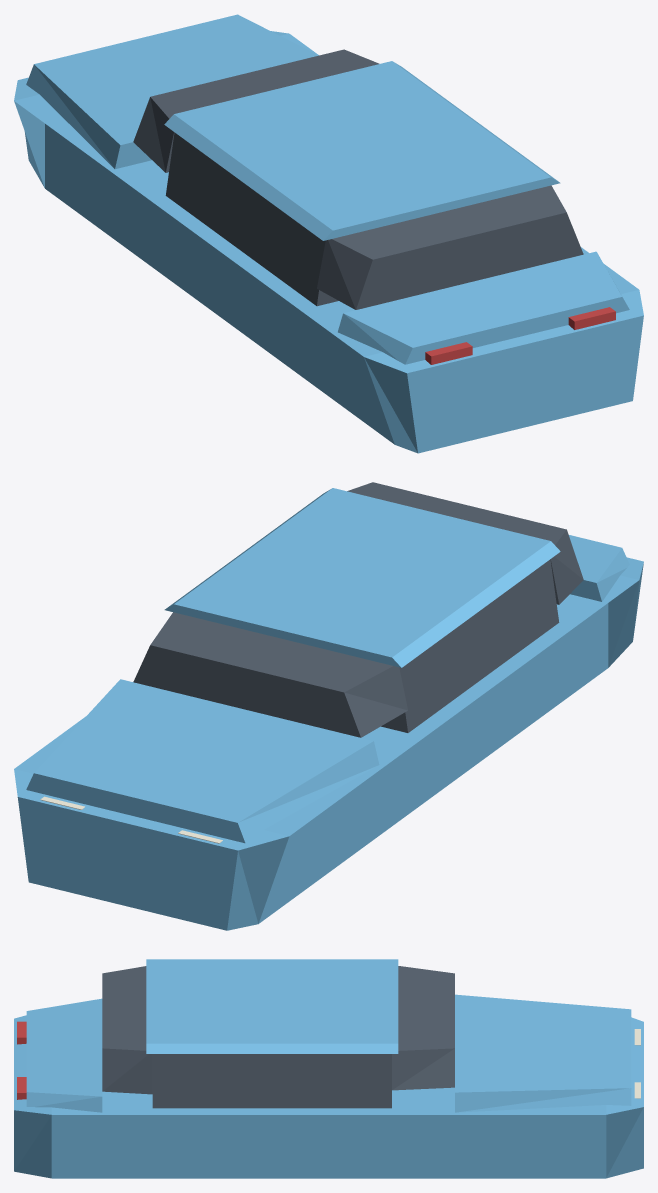
File: hatch_fwd.glb
3 views of the same model, one above another, from view 1: azimuth 30°, elevation 25°; view 2: azimuth 150°, elevation 25°; view 3: azimuth 270°, elevation 25° (orthographic). The views are drawn at different scales.
Parts seen in each view (by area): view 1: Hatchback FWD; view 2: Hatchback FWD; view 3: Hatchback FWD.
Part boxes in pixels (x1,y1,x2,y2): Hatchback FWD: [14, 14, 643, 453]; Hatchback FWD: [14, 482, 643, 930]; Hatchback FWD: [14, 959, 643, 1178].
Size of the model in its own units: 1.6 by 0.95 by 4.
